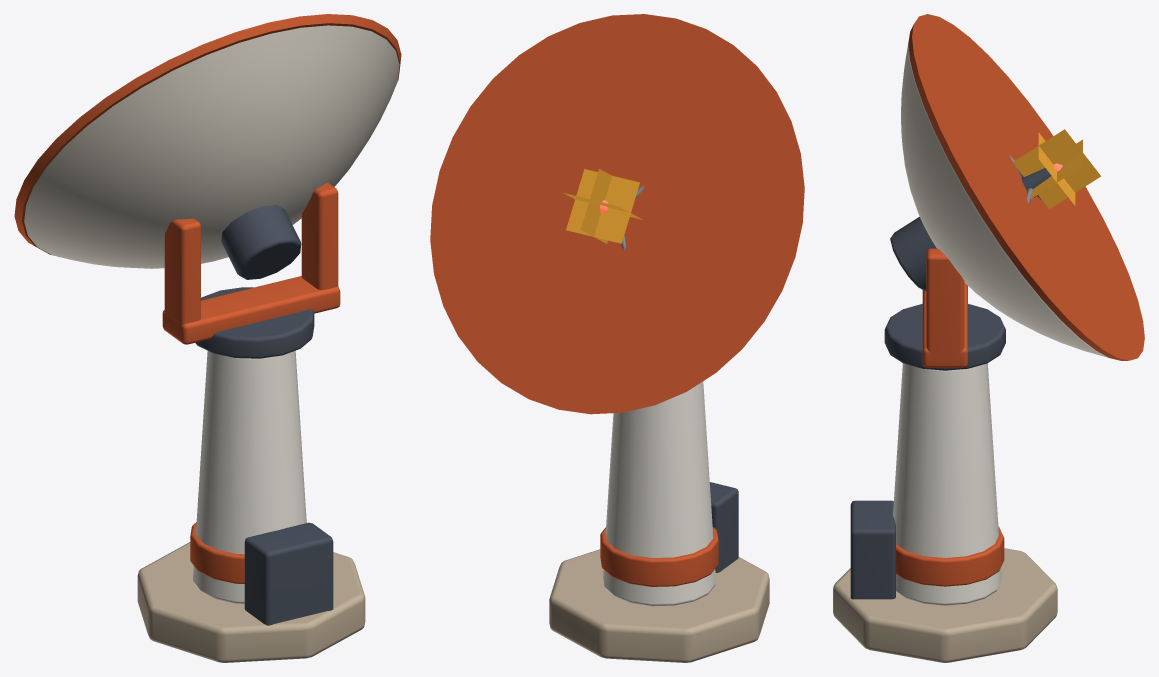
The model's file is dune_dish.glb.
3 views of the same model, side by side, from view 1: azimuth 30°, elevation 25°; view 2: azimuth 150°, elevation 25°; view 3: azimuth 270°, elevation 25° (orthographic). The views are drawn at different scales.
Parts seen in each view (by area): view 1: DishHead, DishBase; view 2: DishHead, DishBase; view 3: DishHead, DishBase.
Boxes of the visible parts, x1,y1,x2,y2 form: DishHead: (14,14,401,358); DishBase: (137,350,365,662); DishHead: (430,14,804,414); DishBase: (549,381,769,662); DishHead: (884,14,1144,370); DishBase: (833,363,1057,662).
Size of the model in its own units: 5.36 by 8.46 by 4.12.
